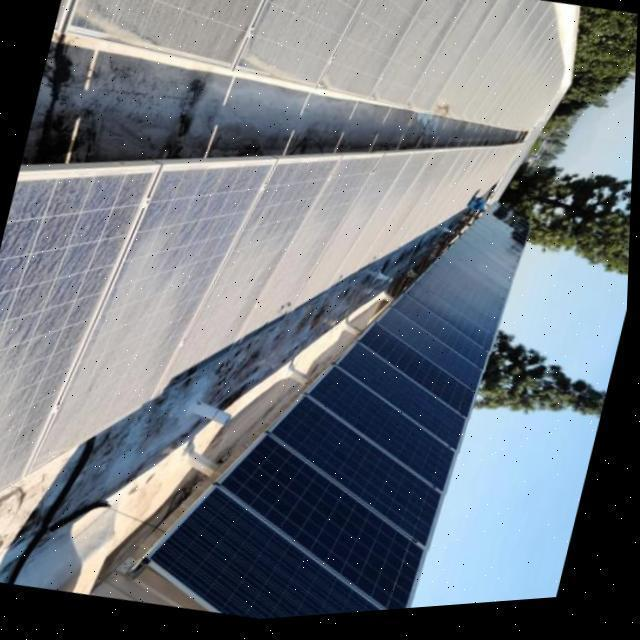Anomaly Solar Panel: (168, 154, 528, 379), (30, 166, 276, 479), (52, 0, 563, 140), (0, 167, 160, 498)
Normal Solar Panel: (219, 434, 429, 616), (151, 486, 389, 623), (270, 397, 445, 554), (309, 369, 459, 501), (337, 346, 469, 459), (359, 327, 478, 426), (377, 313, 484, 400), (393, 299, 490, 378)
Surface Contaminant: (164, 152, 530, 384), (52, 0, 564, 142), (27, 201, 228, 479), (0, 326, 92, 498)
